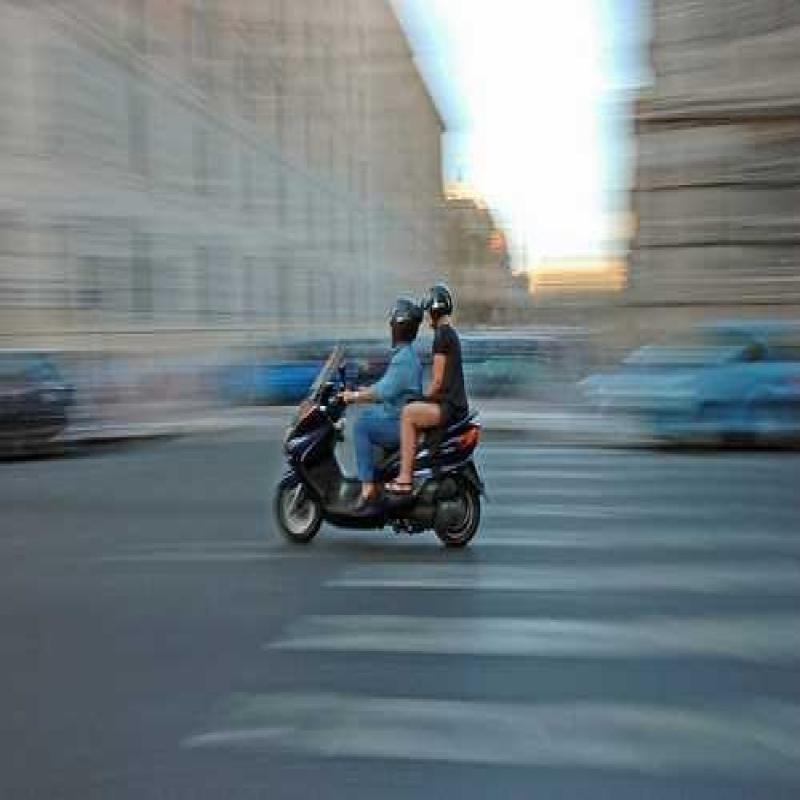bike: (254, 348, 504, 528)
